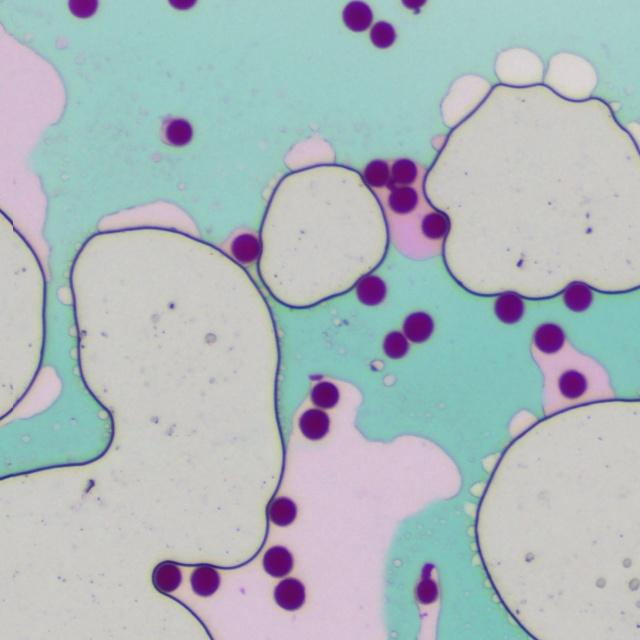viable: (274, 578, 304, 610), (299, 408, 329, 439), (343, 0, 372, 31), (263, 546, 292, 576), (404, 312, 433, 342), (357, 275, 385, 305), (232, 233, 260, 263), (191, 566, 219, 596), (495, 293, 523, 322), (535, 324, 563, 352), (153, 562, 180, 591), (559, 370, 586, 398), (311, 381, 338, 408), (564, 283, 591, 310), (269, 497, 295, 525), (422, 212, 448, 239), (389, 188, 417, 213), (166, 119, 192, 145), (383, 331, 408, 358), (370, 21, 395, 48), (364, 160, 389, 186), (391, 158, 416, 183), (69, 0, 98, 18), (416, 579, 437, 603), (169, 0, 196, 9), (402, 0, 426, 10)
